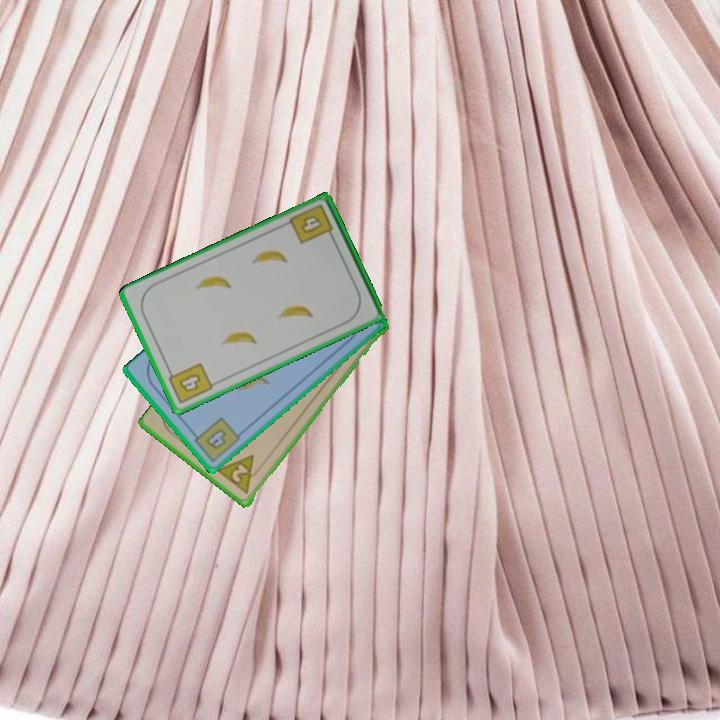2p: (214, 451, 266, 497)
4b: (188, 414, 243, 465), (164, 359, 216, 407), (286, 201, 337, 247)
